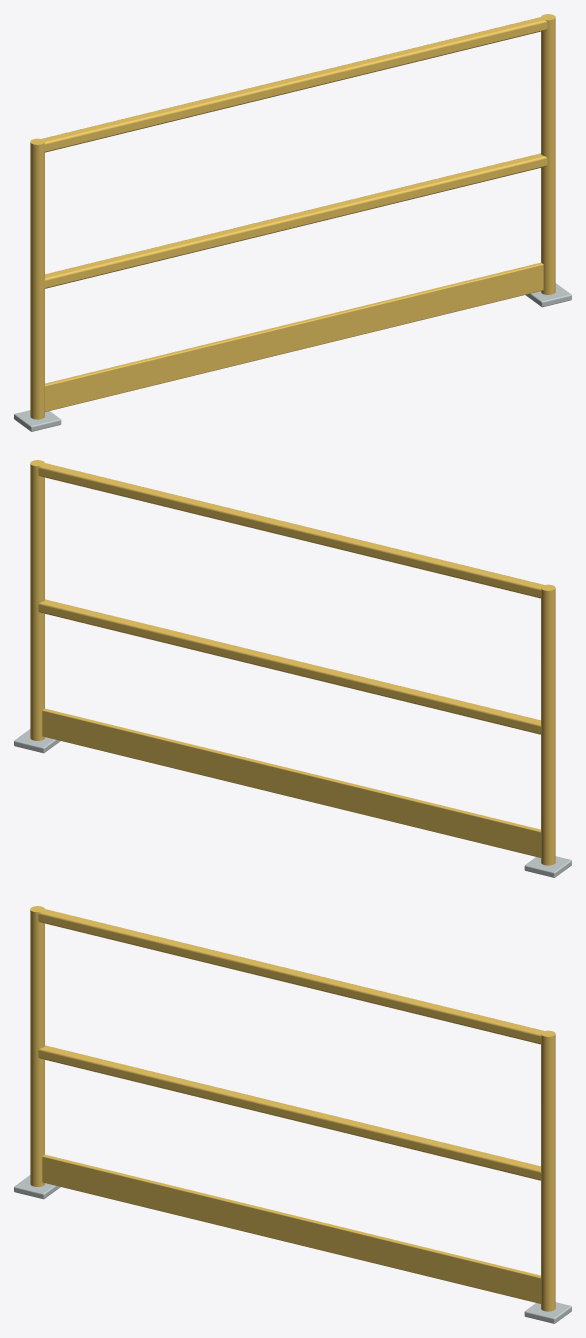
File: hydroelectric-dam-infiltration-safety-rail-straight-3678f51c__29368.glb
The picture shows the model from 3 angles, top to bottom: view 1: azimuth 30°, elevation 25°; view 2: azimuth 150°, elevation 25°; view 3: azimuth 330°, elevation 25°; orthographic projection.
Visible parts, largest first — view 1: safety-rail-straight; view 2: safety-rail-straight; view 3: safety-rail-straight.
Boxes of the visible parts, x1,y1,x2,y2 form: safety-rail-straight: (14, 14, 571, 431); safety-rail-straight: (14, 460, 571, 877); safety-rail-straight: (14, 906, 571, 1323).
Bounding box in the file's own units: 2.12 × 1.05 × 0.1201.
